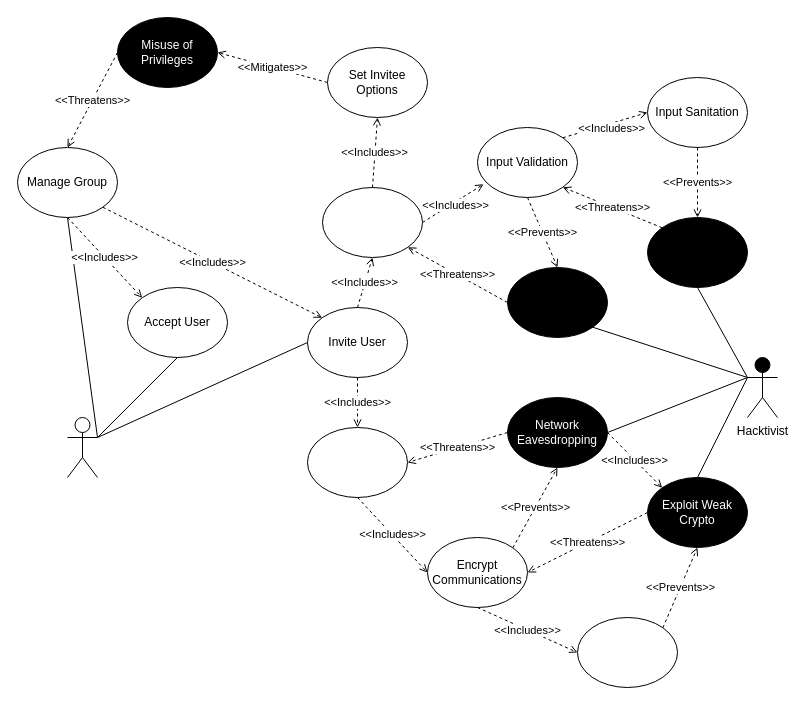
This 805x705 diagram has some shape labels left out. Here are the shapes that lost their labels. From the top down, the centre of each, then its label:
the point at 372,222: Take User Input
the point at 697,252: Escape Input Validation
the point at 557,302: Malicious Input
the point at 82,447: Group Admin
the point at 357,462: Send Email
the point at 627,652: Strong Encryption Algorithm
